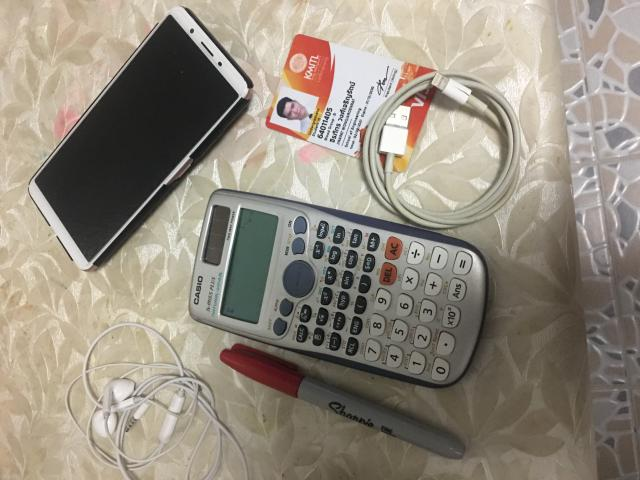Mobile phone: (29, 6, 252, 270)
Pen: (220, 344, 465, 459)
wire: (65, 322, 248, 479), (362, 71, 520, 229)
